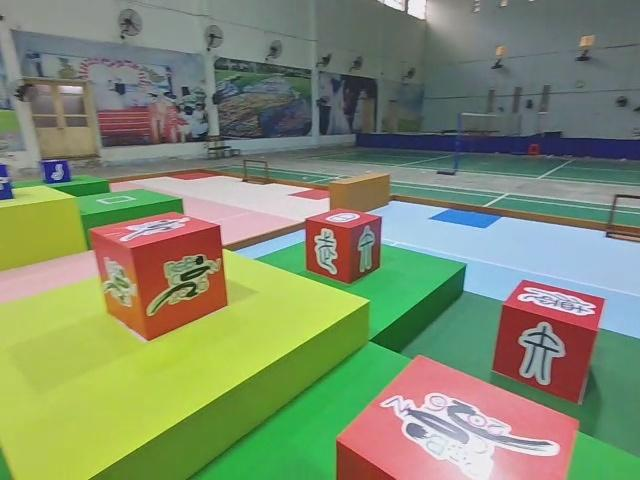R1: (333, 351, 582, 480), (87, 207, 229, 342)
R2 Fake: (491, 275, 608, 407), (301, 205, 385, 287)
